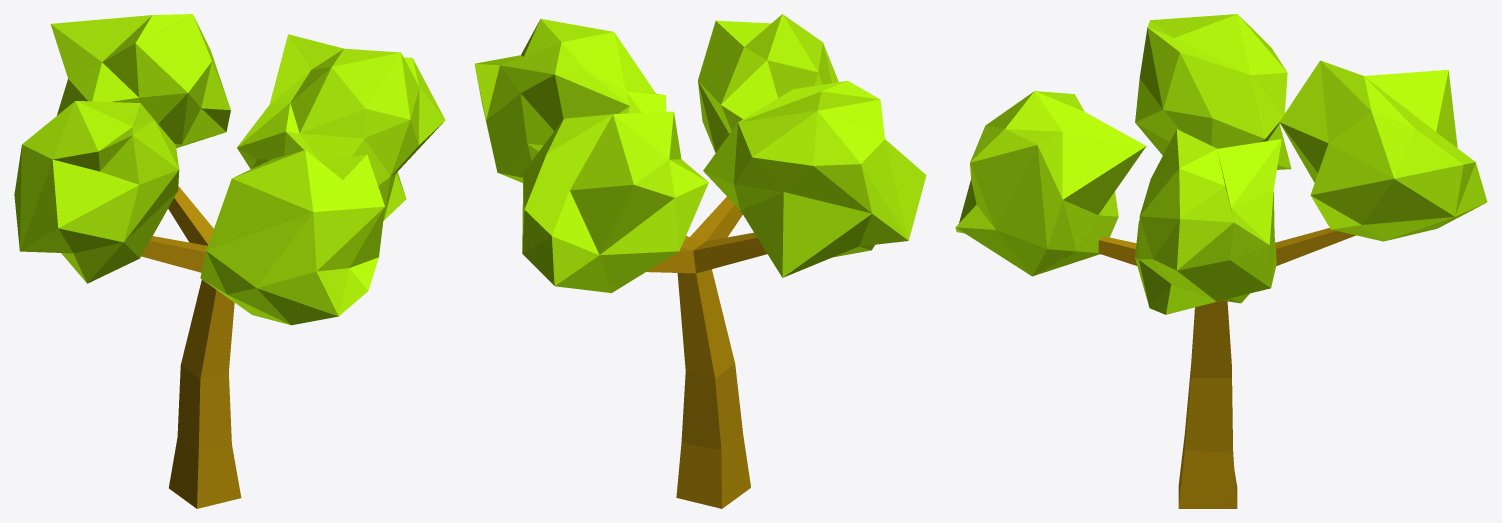
The model's file is cartoon_lowpoly_trees_blend.glb.
3 views of the same model, side by side, from view 1: azimuth 30°, elevation 25°; view 2: azimuth 150°, elevation 25°; view 3: azimuth 270°, elevation 25° (orthographic). The views are drawn at different scales.
Parts seen in each view (by area): view 1: Tree_2; view 2: Tree_2; view 3: Tree_2.
Part boxes in pixels (<box>): Tree_2: <box>14,14,445,508</box>; Tree_2: <box>474,14,926,508</box>; Tree_2: <box>955,14,1487,508</box>.
Bounding box in the file's own units: 33.51 × 32.38 × 36.04.
